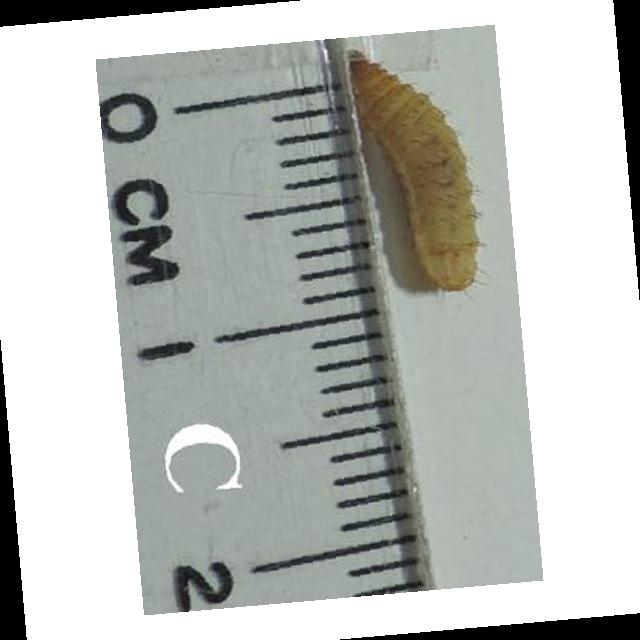Maggot: (353, 52, 485, 293)
